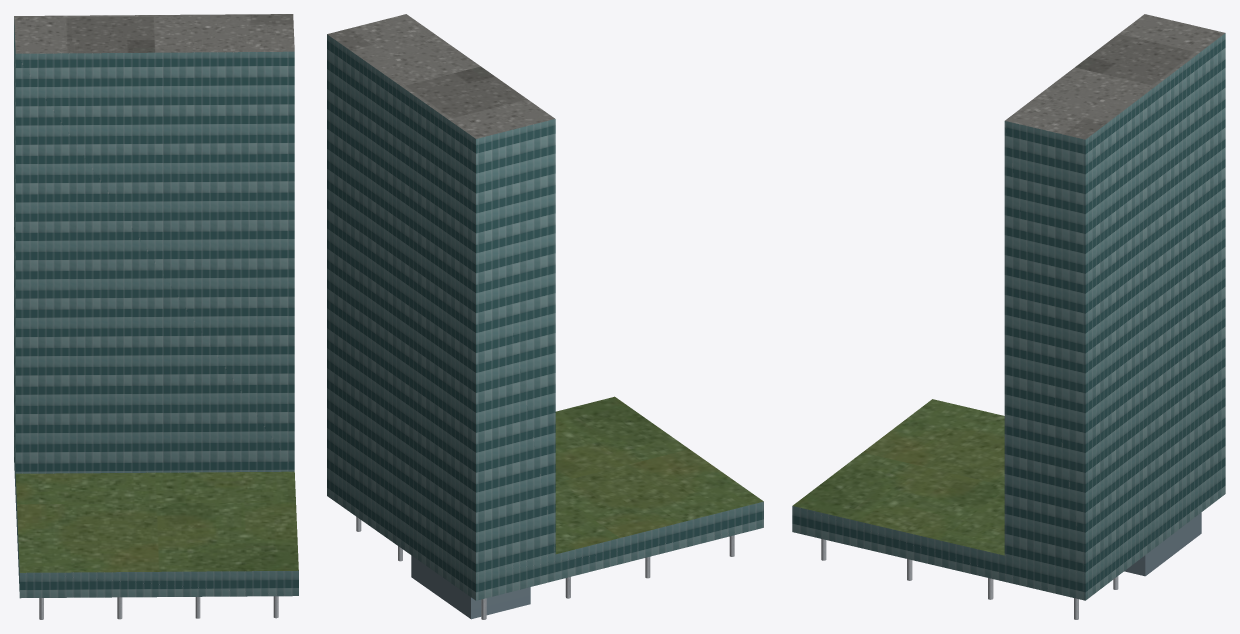
Rendered from lever.glb.
3 renders of one model, left to right at view 1: azimuth 30°, elevation 25°; view 2: azimuth 150°, elevation 25°; view 3: azimuth 270°, elevation 25°, orthographic. The views are drawn at different scales.
Visible parts, largest first — view 1: lever; view 2: lever; view 3: lever.
Boxes of the visible parts, bbox=[...] form: lever: bbox=[14, 14, 298, 619]; lever: bbox=[327, 14, 763, 619]; lever: bbox=[792, 14, 1225, 619].
Size of the model in its own units: 71.85 by 94 by 74.97.
22 materials, 21 textured.
